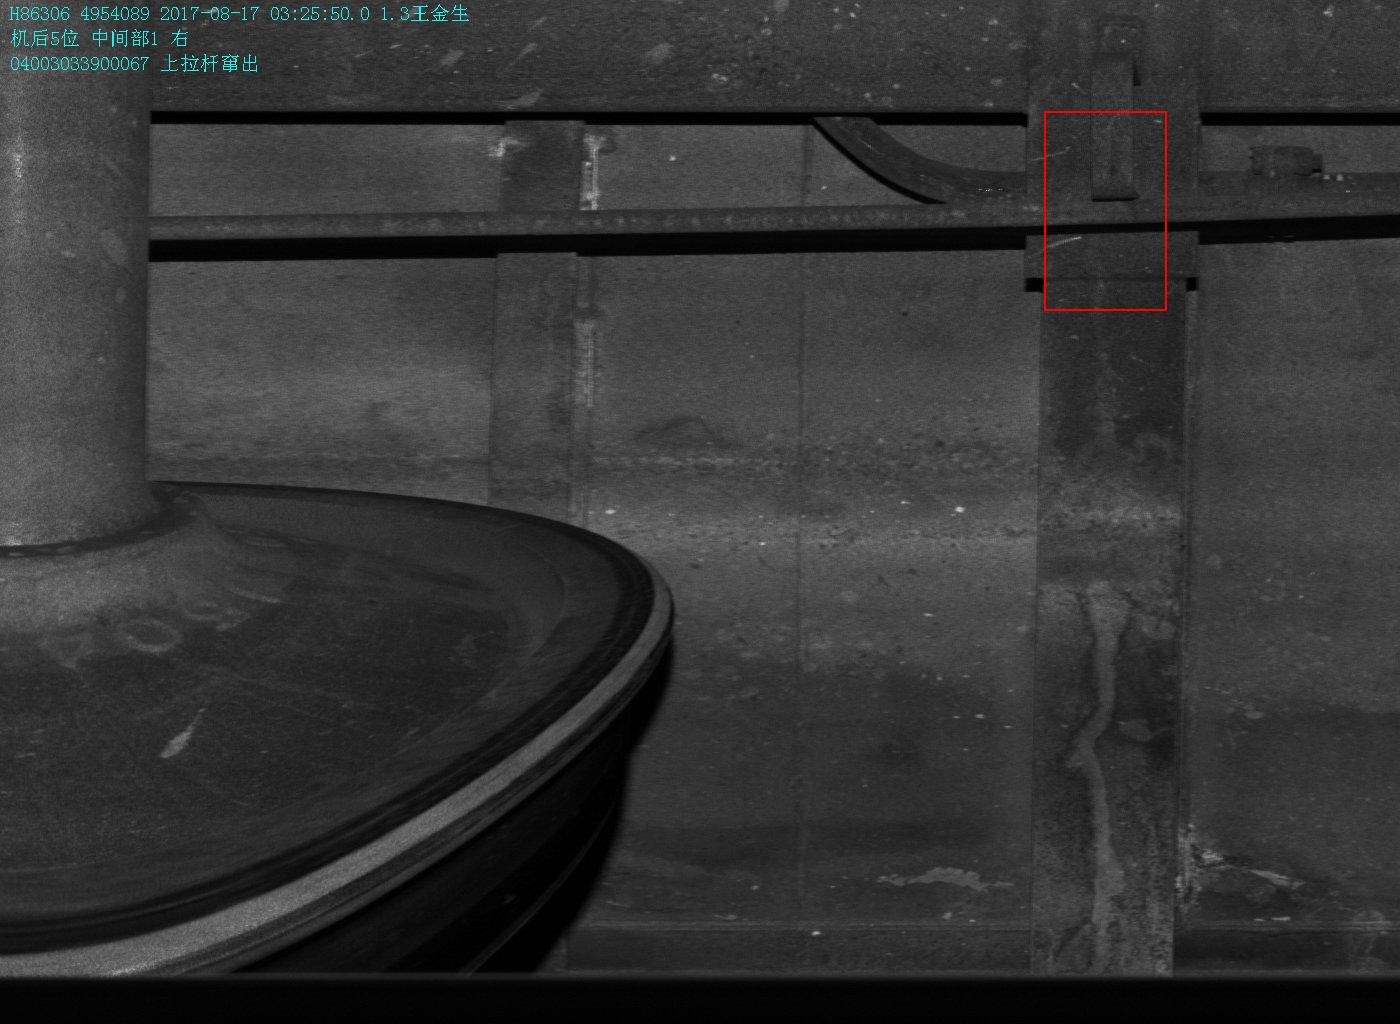Upper lever: (1092, 20, 1141, 235)
